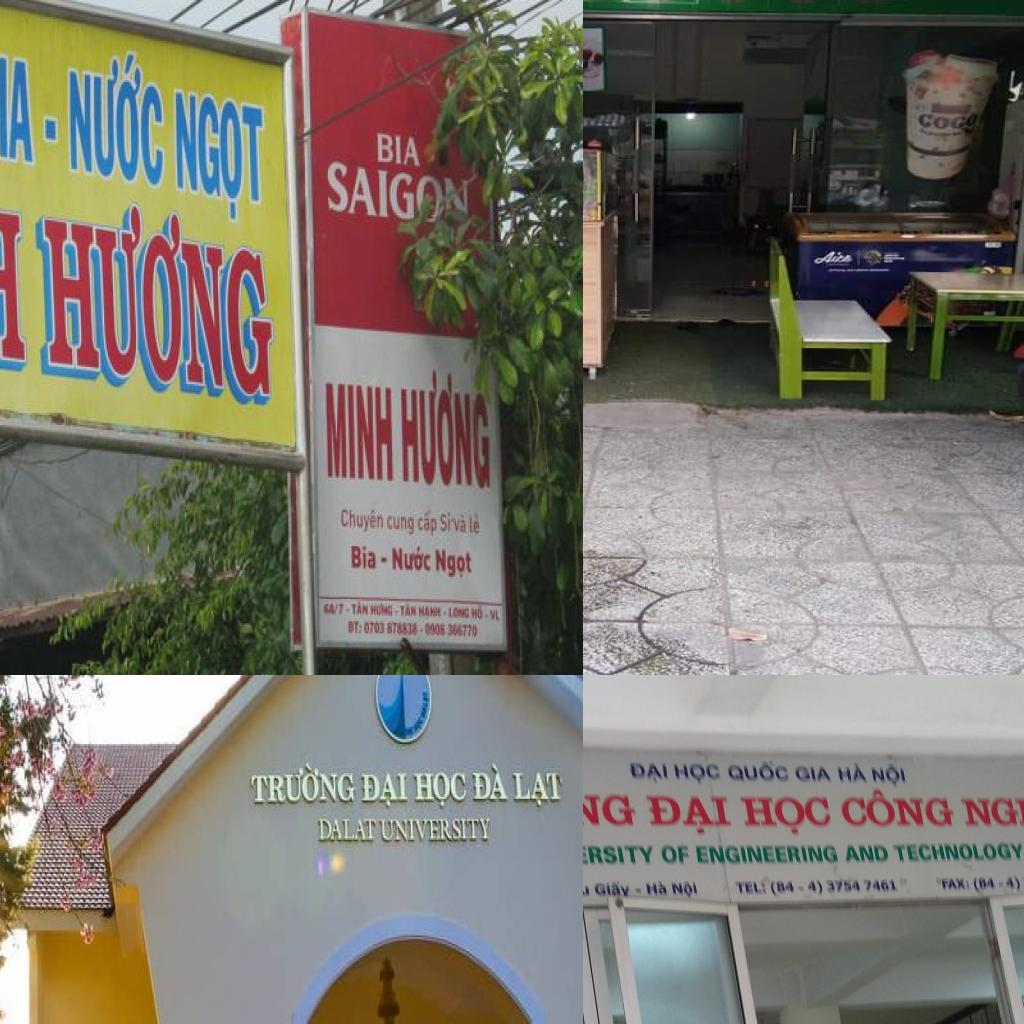text: (35, 190, 278, 416), (63, 48, 166, 193), (172, 78, 267, 228), (398, 362, 496, 495), (324, 376, 397, 484), (323, 157, 418, 224), (840, 788, 957, 832), (249, 763, 357, 807), (0, 41, 37, 164), (740, 792, 832, 838), (646, 792, 736, 838), (691, 842, 842, 866), (378, 817, 492, 845), (583, 773, 638, 831), (958, 787, 1024, 835), (892, 839, 1024, 863), (370, 124, 426, 170), (414, 770, 469, 810), (512, 770, 565, 810), (583, 841, 655, 868), (362, 770, 410, 810), (337, 504, 386, 540), (316, 818, 379, 846), (723, 759, 791, 784), (472, 761, 511, 804), (433, 546, 474, 580), (672, 760, 724, 786), (390, 543, 433, 573), (644, 878, 704, 898), (626, 756, 670, 783), (844, 841, 891, 865), (826, 877, 898, 892), (792, 760, 834, 784), (917, 114, 979, 130), (349, 540, 378, 574), (425, 621, 479, 638), (364, 620, 420, 636), (871, 764, 910, 786), (40, 111, 62, 147), (386, 512, 416, 538), (416, 509, 440, 541), (734, 878, 771, 897), (590, 880, 631, 897), (837, 762, 868, 784), (662, 843, 691, 866), (939, 876, 971, 893), (970, 875, 999, 892), (772, 878, 798, 896), (468, 508, 483, 538), (438, 510, 455, 536), (419, 602, 442, 620), (323, 601, 346, 618), (452, 512, 468, 536), (370, 602, 394, 618), (448, 604, 472, 620), (398, 602, 419, 620), (1004, 874, 1022, 892), (351, 601, 369, 618), (806, 878, 824, 895), (472, 604, 486, 623), (347, 620, 363, 636), (488, 606, 502, 621), (583, 880, 591, 898), (380, 554, 390, 566), (393, 608, 401, 616), (442, 609, 448, 618), (484, 613, 490, 621), (346, 606, 351, 614)
